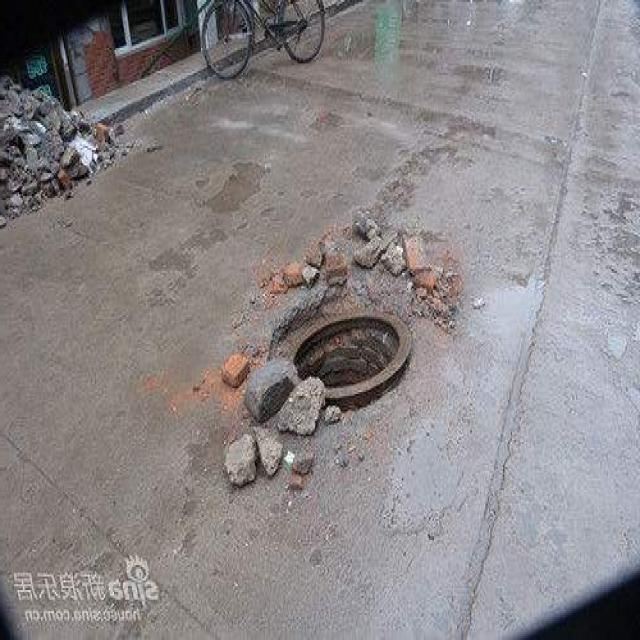manhole-cover: (269, 279, 421, 403)
